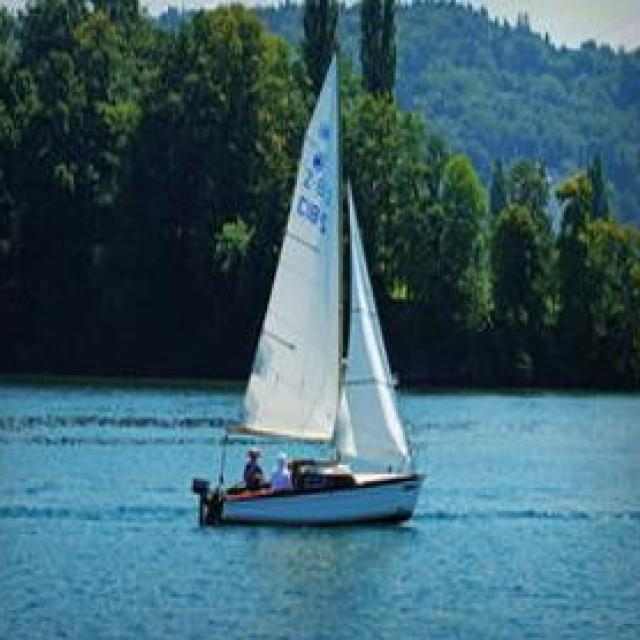sailboat: (184, 56, 434, 529)
